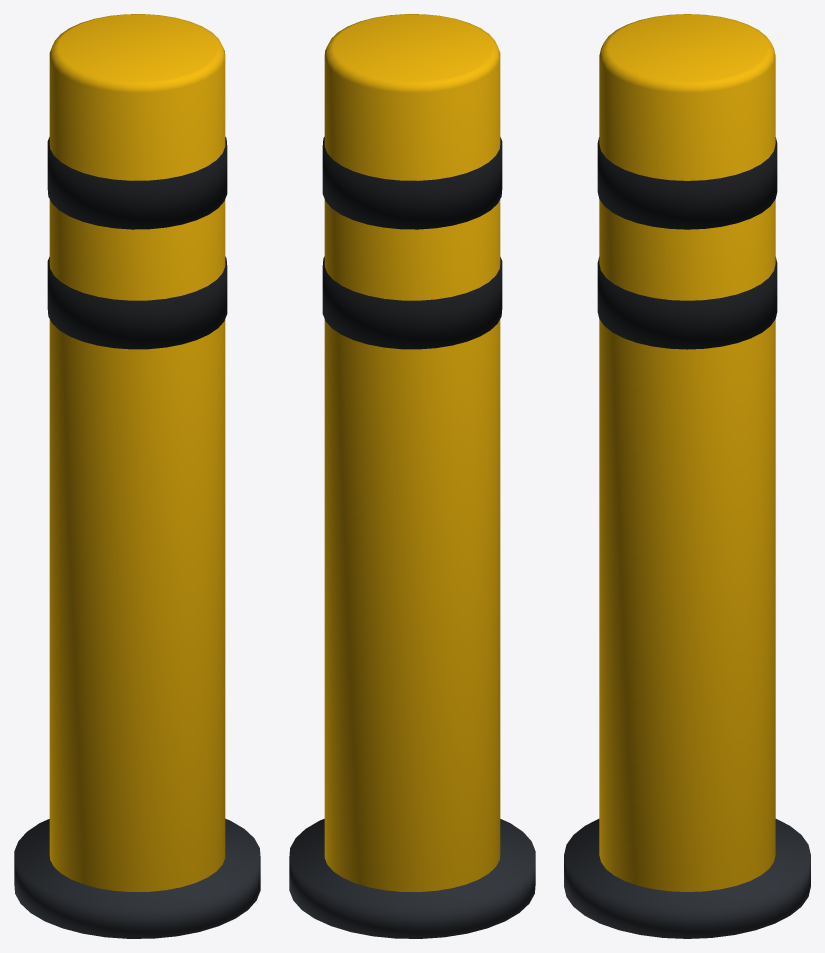
Rendered from bollard.glb.
3 renders of one model, left to right at view 1: azimuth 30°, elevation 25°; view 2: azimuth 150°, elevation 25°; view 3: azimuth 270°, elevation 25°, orthographic.
Parts seen in each view (by area): view 1: bollard; view 2: bollard; view 3: bollard.
Part boxes in pixels (x1,y1,x2,y2): bollard: (14, 14, 260, 938); bollard: (289, 14, 535, 938); bollard: (564, 14, 810, 938).
Size of the model in its own units: 0.28 by 1.05 by 0.28.
